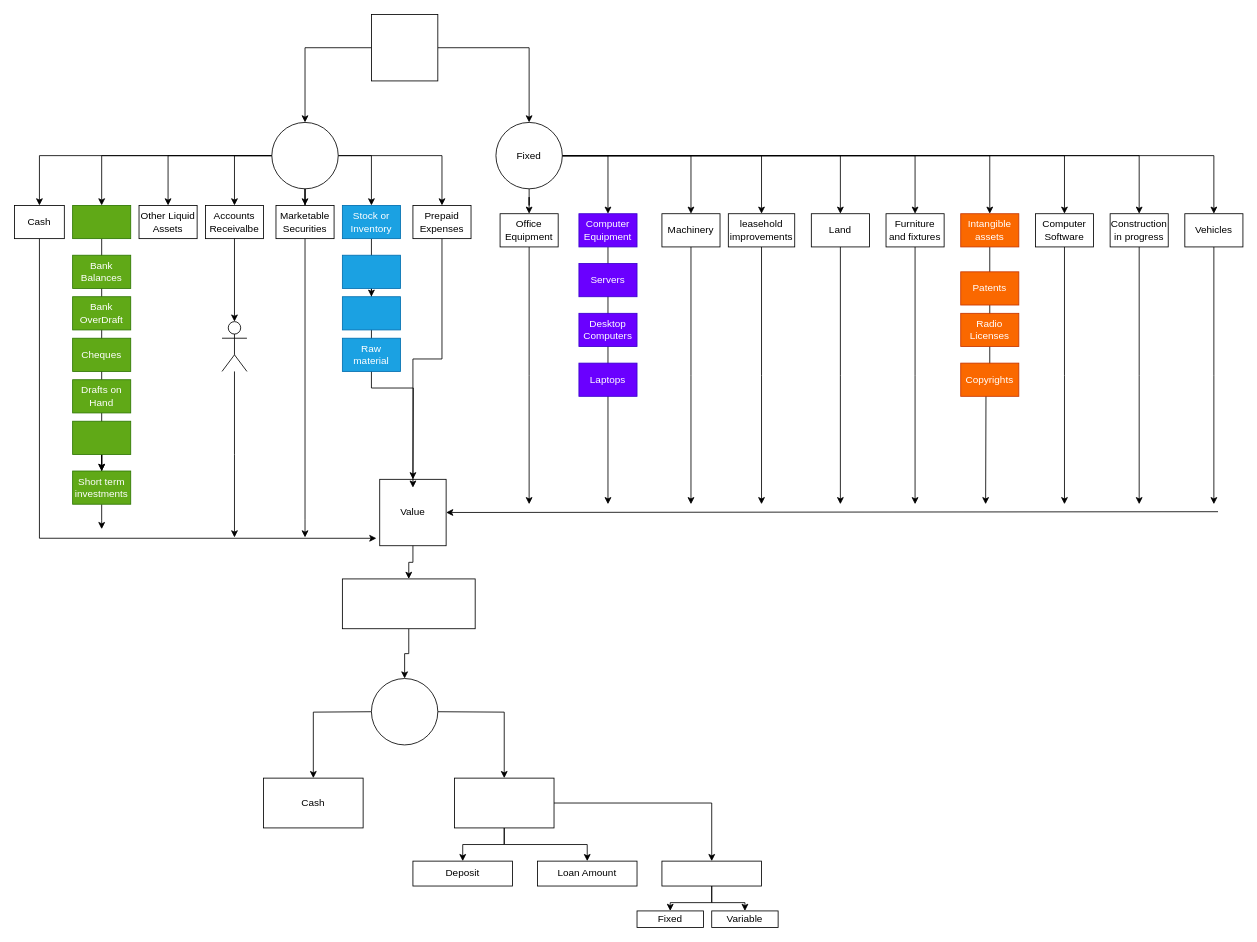
This 1257x942 diagram has some shape labels left out. The box of each missing label's shape, as (x1, y1, x2, y2) in pixels:
Appreciation/Depreciation: (342, 578, 475, 629)
Cash Equivalent: (72, 205, 131, 239)
Credit: (454, 777, 554, 828)
Current: (271, 122, 338, 189)
Demand Deposit: (72, 420, 131, 454)
Expense: (371, 14, 438, 81)
Finished Goods: (342, 254, 400, 288)
Interest: (661, 860, 762, 886)
Link to a user: (221, 321, 247, 371)
Transaction Type: (371, 678, 438, 745)
Work in Progress: (342, 296, 400, 330)
